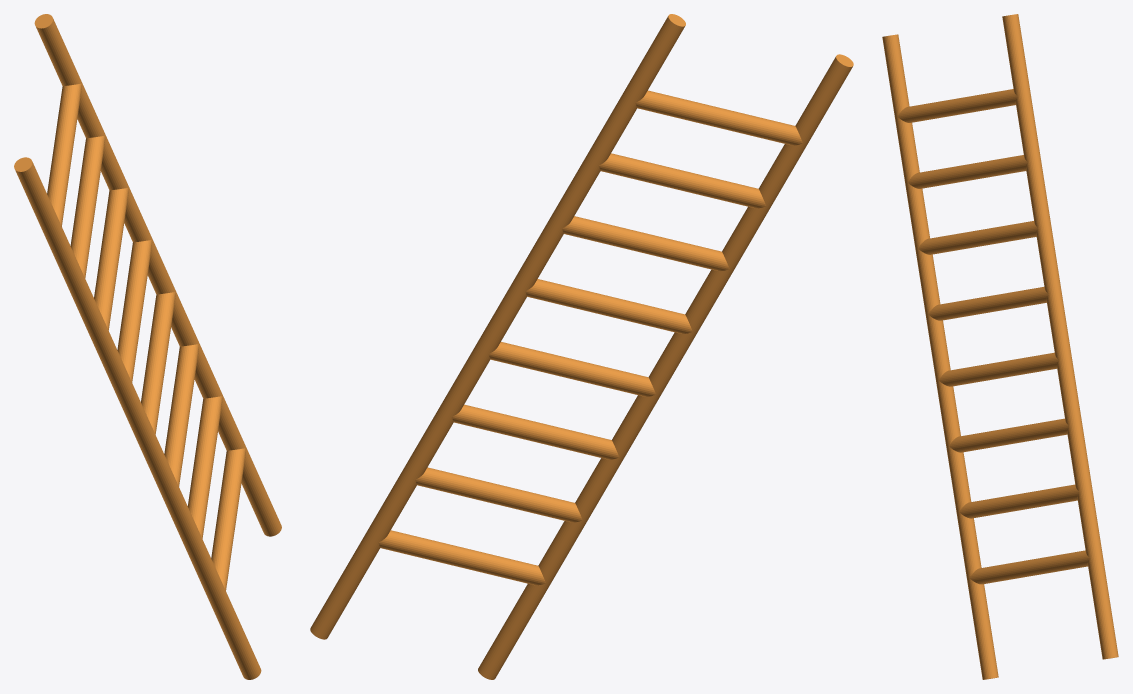
File: ladder.fbx
3 renders of one model, left to right at view 1: azimuth 30°, elevation 25°; view 2: azimuth 150°, elevation 25°; view 3: azimuth 270°, elevation 25°, orthographic. The views are drawn at different scales.
Visible parts, largest first — view 1: Cylinder.002; view 2: Cylinder.002; view 3: Cylinder.002.
Part boxes in pixels (left/top/right/bottom): Cylinder.002: left=14, top=14, right=281, bottom=679; Cylinder.002: left=310, top=14, right=853, bottom=679; Cylinder.002: left=882, top=14, right=1118, bottom=679.
Size of the model in its own units: 473 by 799 by 291.
